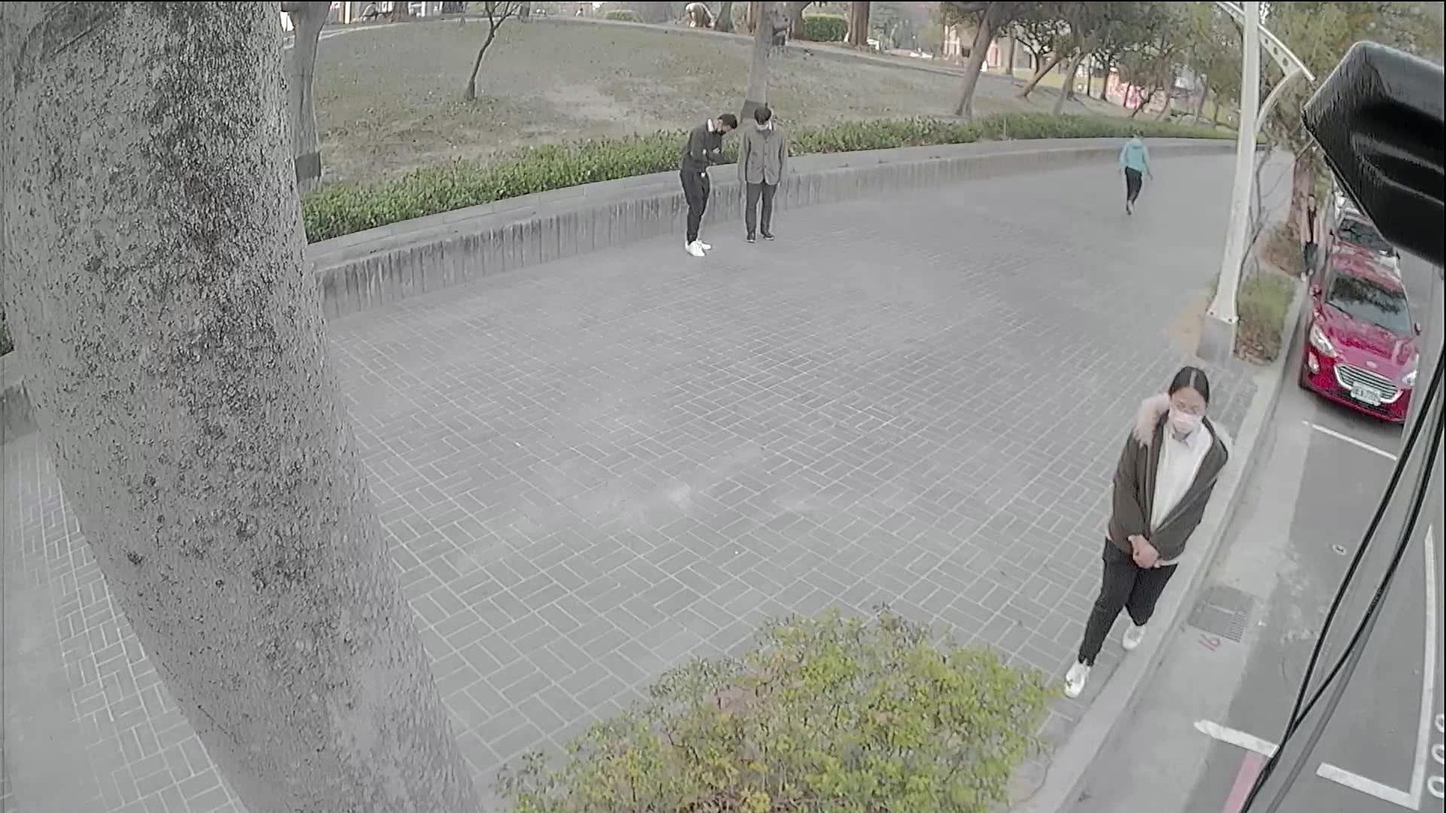person: (1079, 368, 1232, 674), (679, 110, 733, 254), (737, 108, 786, 241), (1115, 131, 1147, 213), (1300, 189, 1319, 273)
